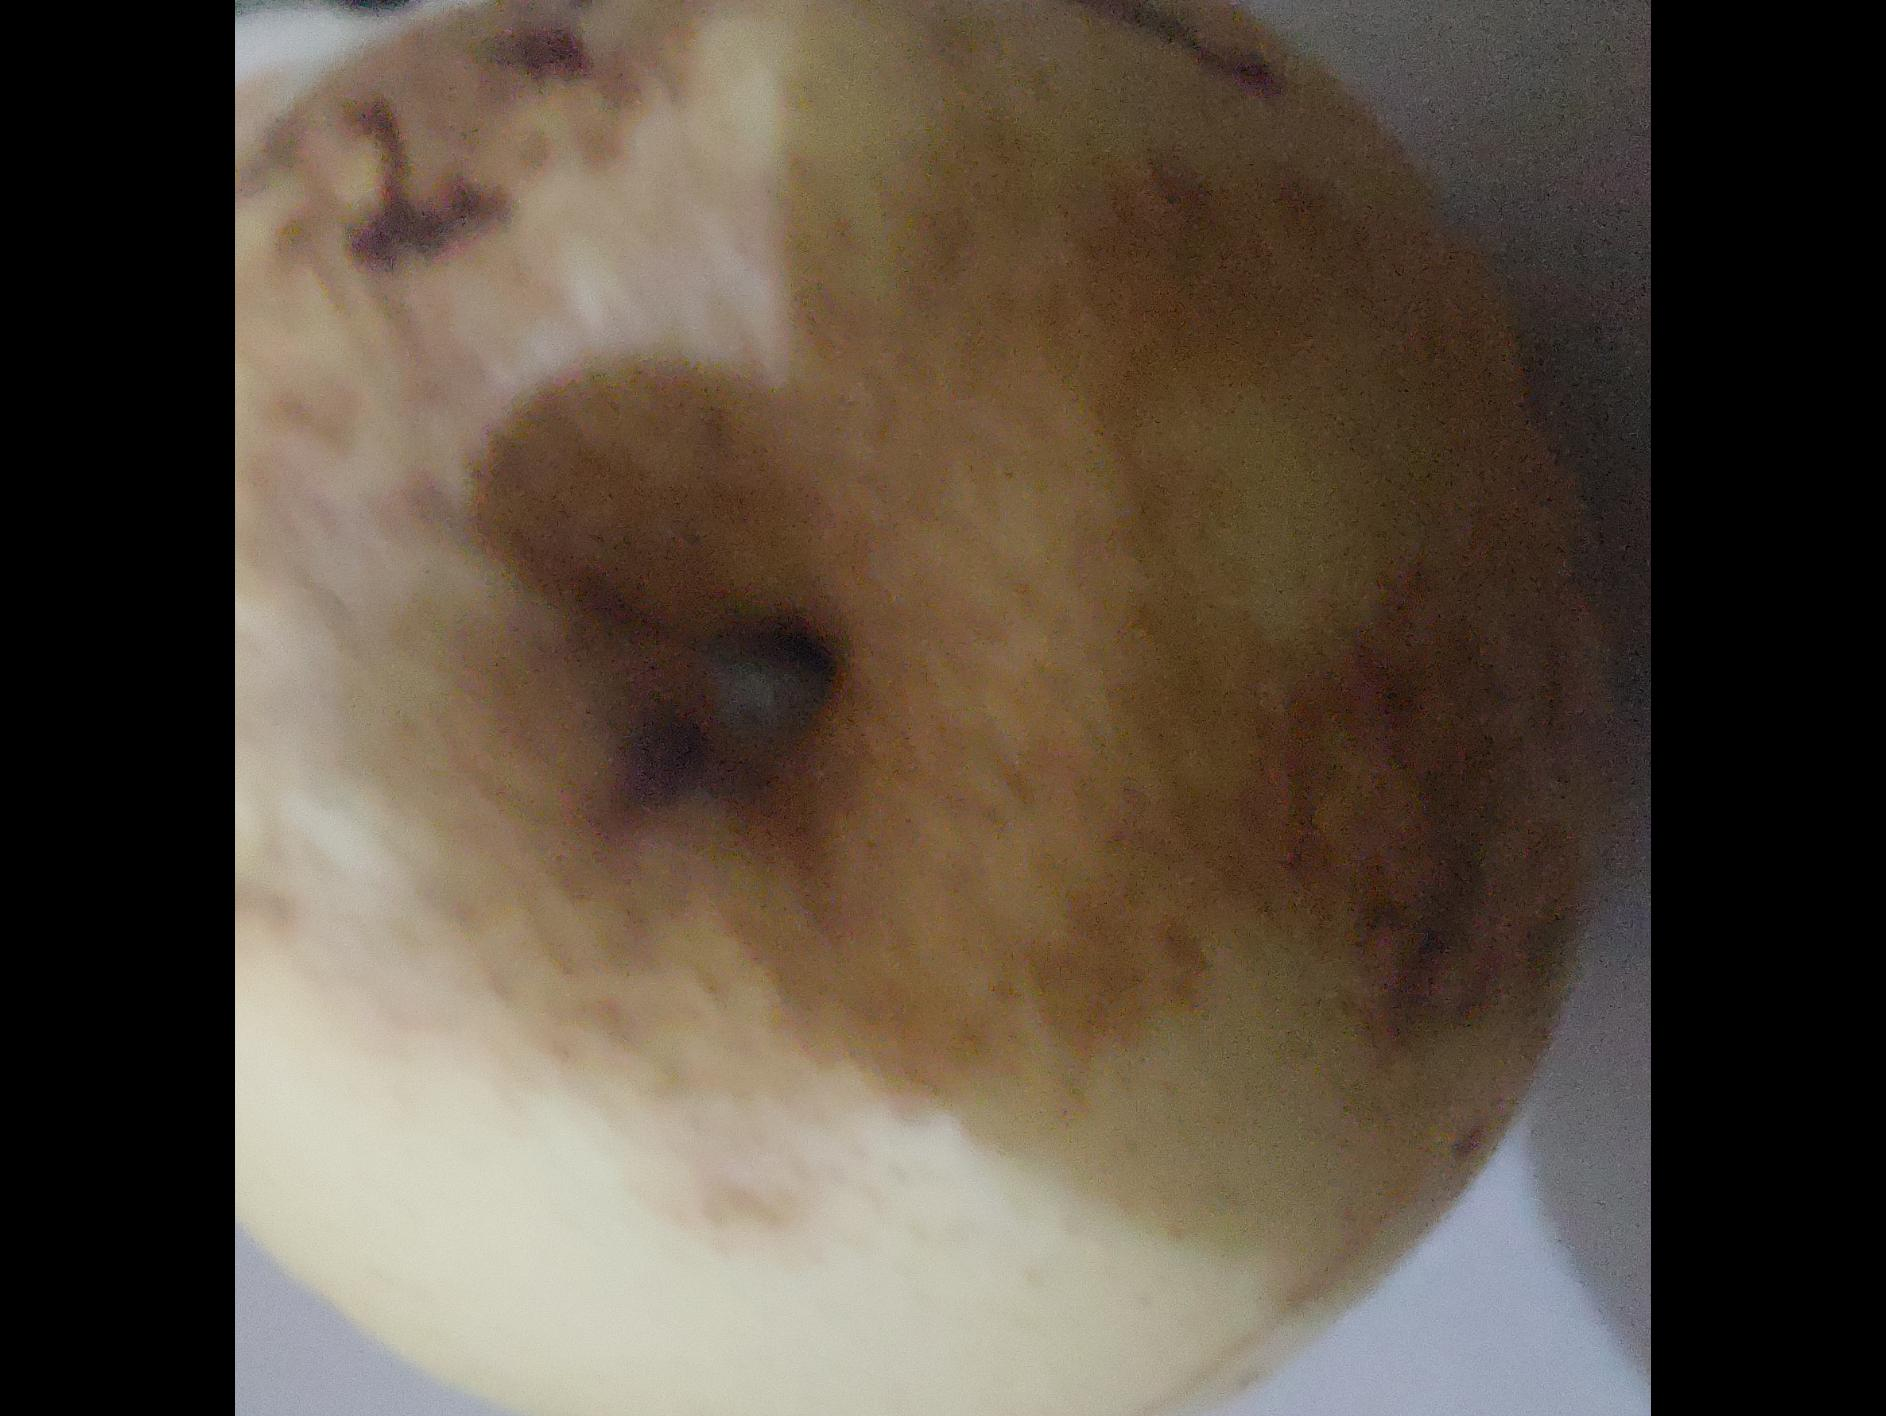Bad Pear: (235, 0, 1609, 1416)
